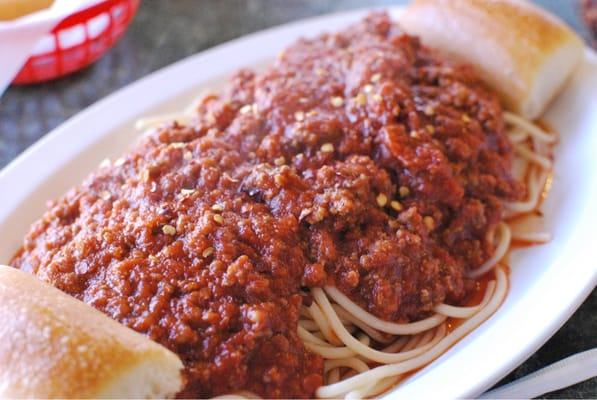curry: (2, 0, 592, 397)
